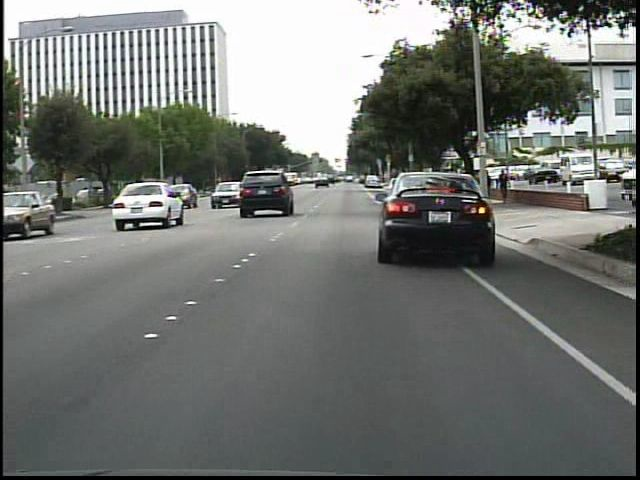person: (495, 167, 513, 207), (481, 169, 495, 202)
